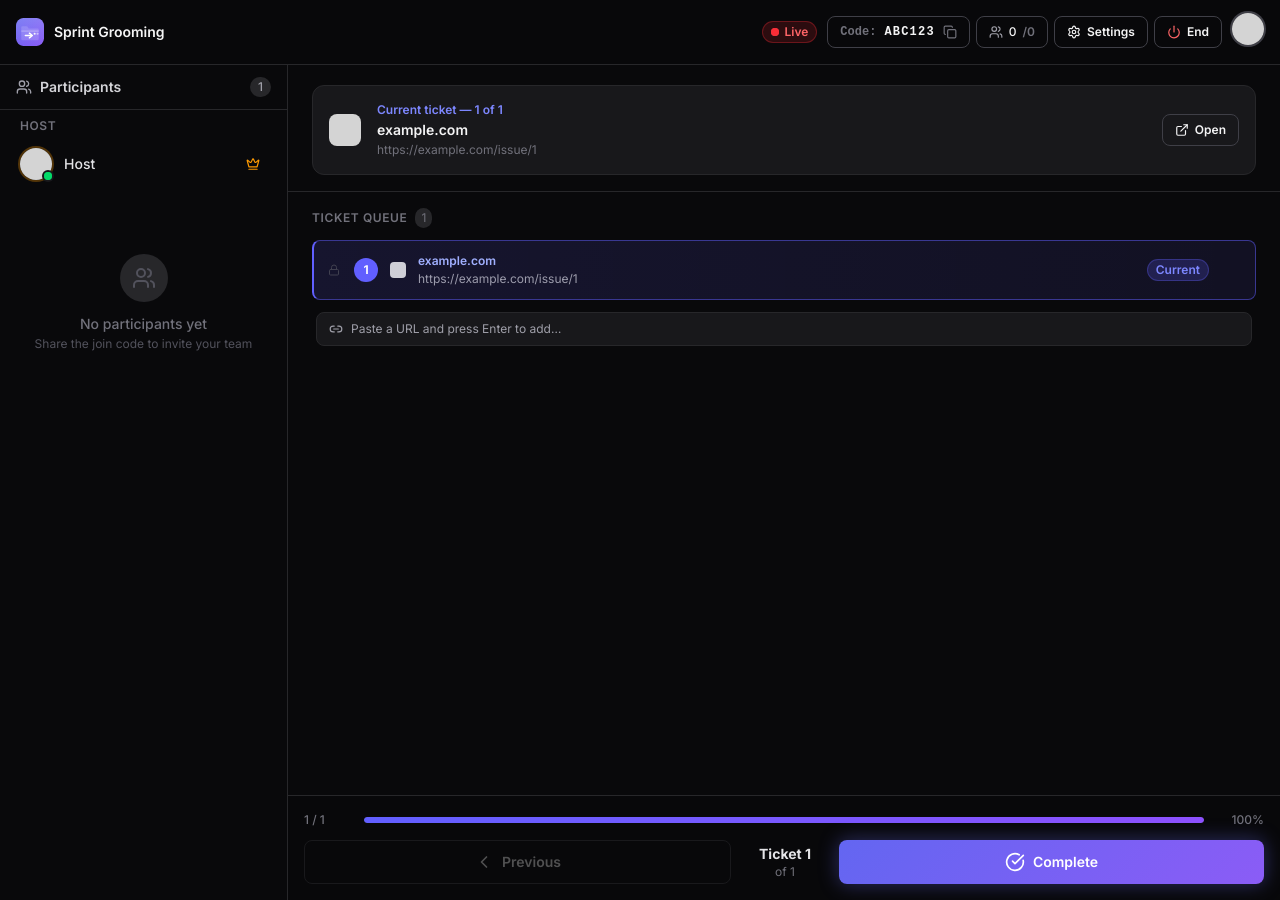
Scenario: HostDashboard — settings modal › closes the settings modal when X is clicked
This screenshot has width=1280, height=900.
Click the button titled "session settings" at (1101, 32), box [1054,16,1148,48]
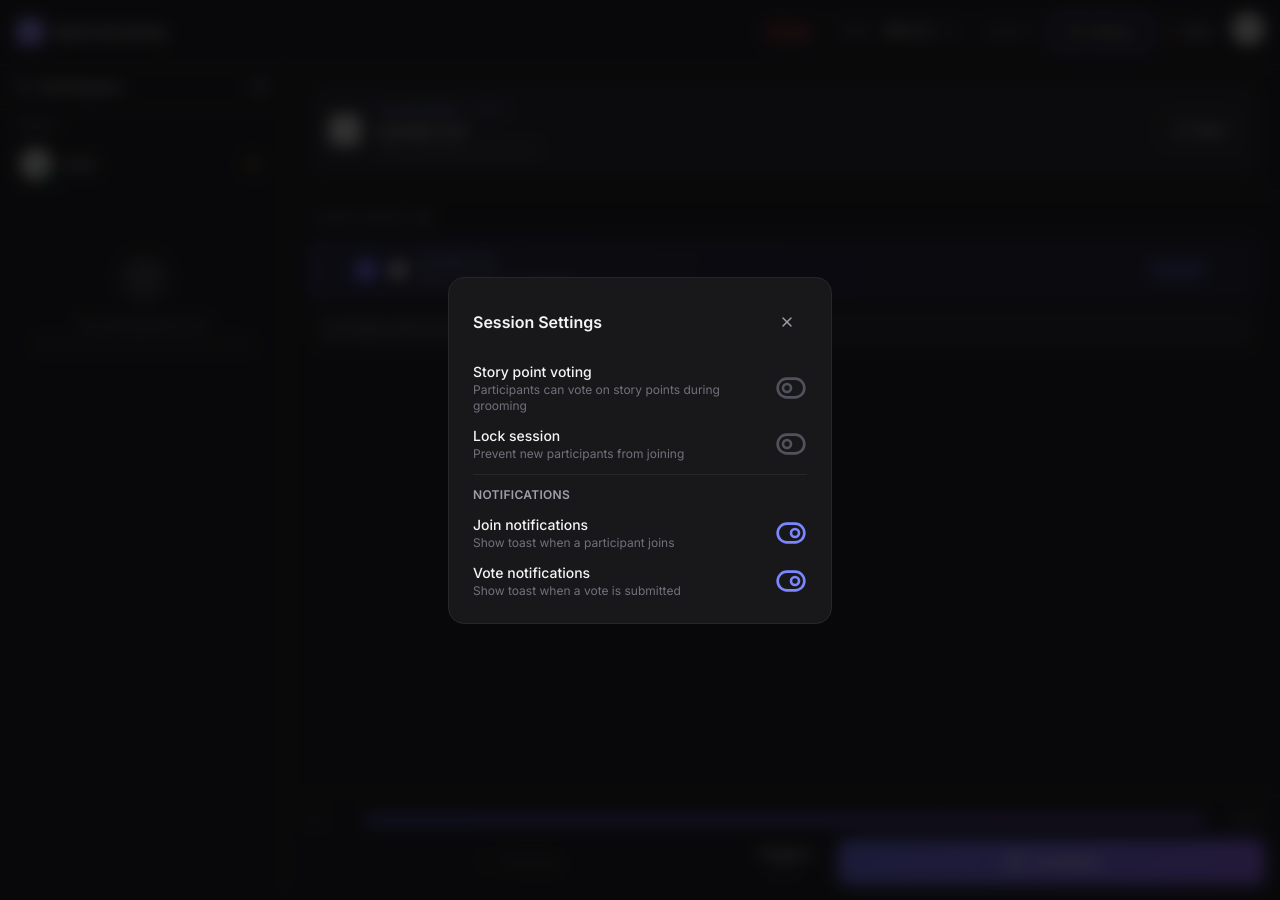
Expected: the heading "Session Settings" is shown, [473,310,602,334]
Click the button named "close" at (787, 322), box [767,302,807,342]
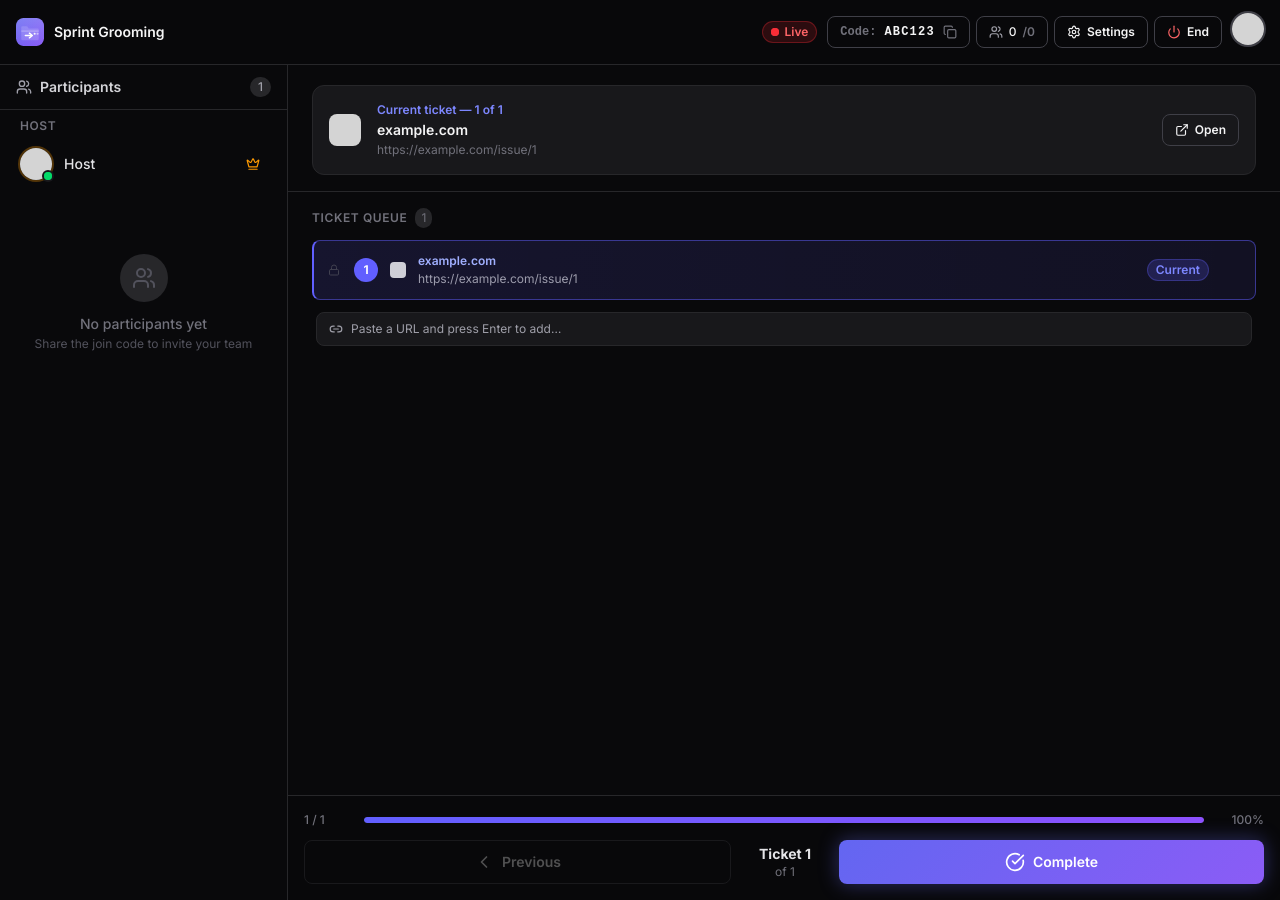
Expected: the heading "Session Settings" is gone
